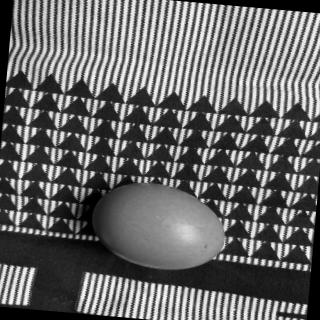Telur: (86, 179, 232, 278)
